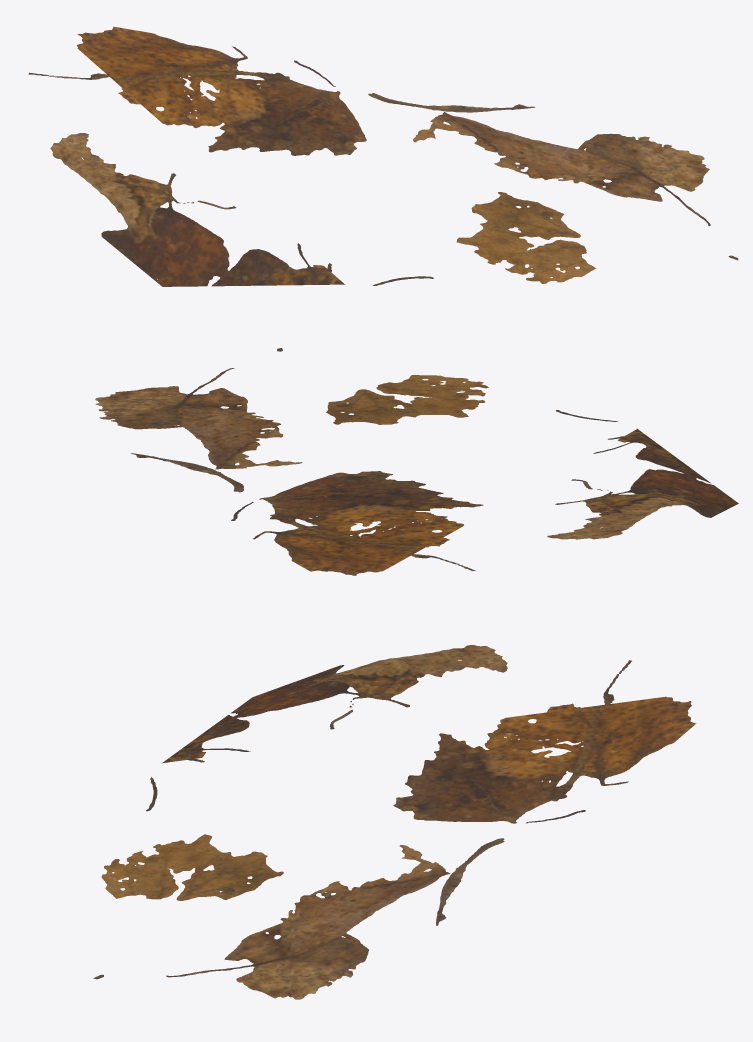
File: SM_Leaves00.fbx
The picture shows the model from 3 angles, top to bottom: view 1: azimuth 30°, elevation 25°; view 2: azimuth 150°, elevation 25°; view 3: azimuth 270°, elevation 25°; orthographic projection. The views are drawn at different scales.
Parts seen in each view (by area): view 1: SM_Leaves00; view 2: SM_Leaves00; view 3: SM_Leaves00.
Part boxes in pixels (bbox=[...]): SM_Leaves00: bbox=[28, 26, 738, 286]; SM_Leaves00: bbox=[95, 348, 738, 575]; SM_Leaves00: bbox=[93, 645, 696, 999].
Bounding box in the file's own units: 52.56 × 8.17 × 49.56.
